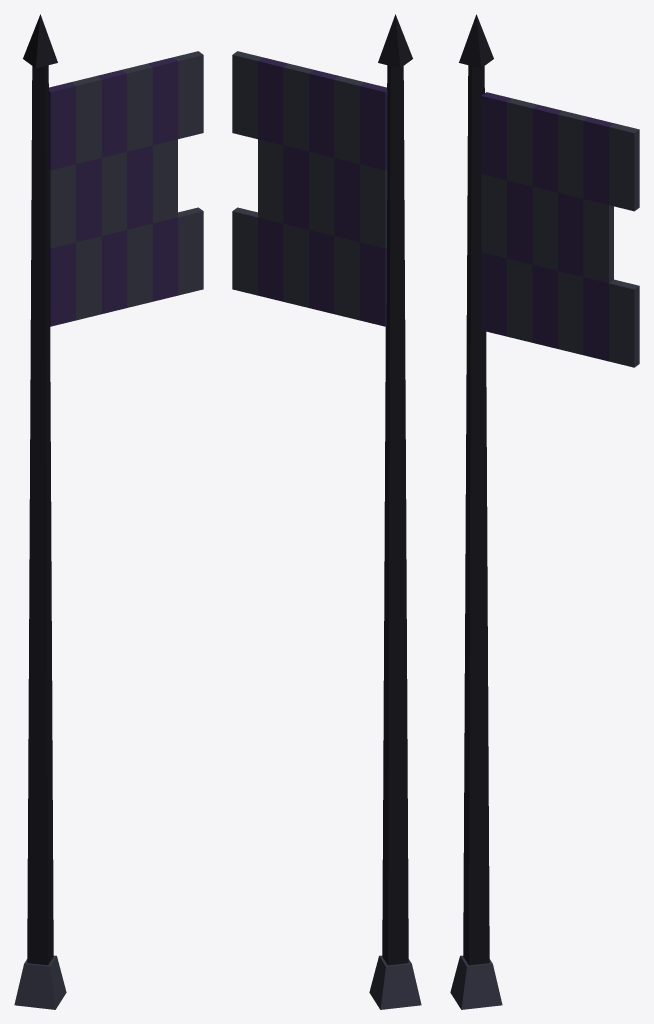
Rendered from flag.glb.
3 views of the same model, side by side, from view 1: azimuth 30°, elevation 25°; view 2: azimuth 150°, elevation 25°; view 3: azimuth 330°, elevation 25° (orthographic).
Visible parts, largest first — view 1: graveyard-flag; view 2: graveyard-flag; view 3: graveyard-flag.
Boxes of the visible parts, <box> form: graveyard-flag: <box>14,14,203,1009</box>; graveyard-flag: <box>232,14,421,1009</box>; graveyard-flag: <box>450,14,639,1009</box>.
Size of the model in its own units: 0.25 by 1.26 by 0.07.
